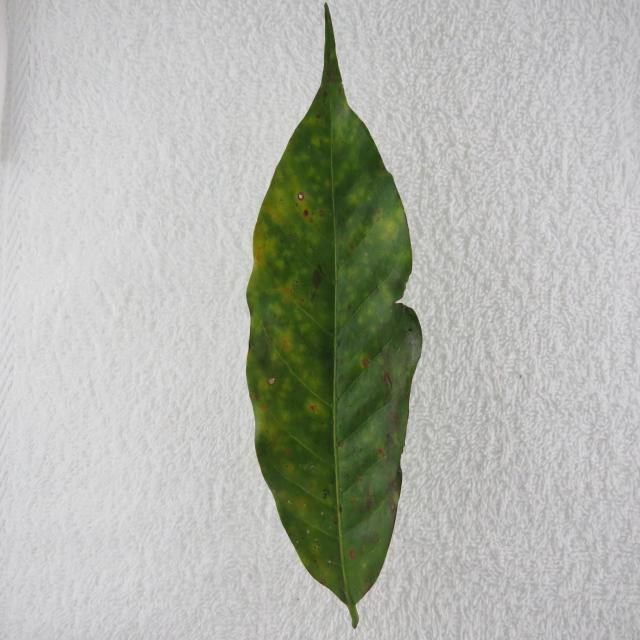DeficienciaNutricional-Manganeso: (246, 5, 422, 627)
